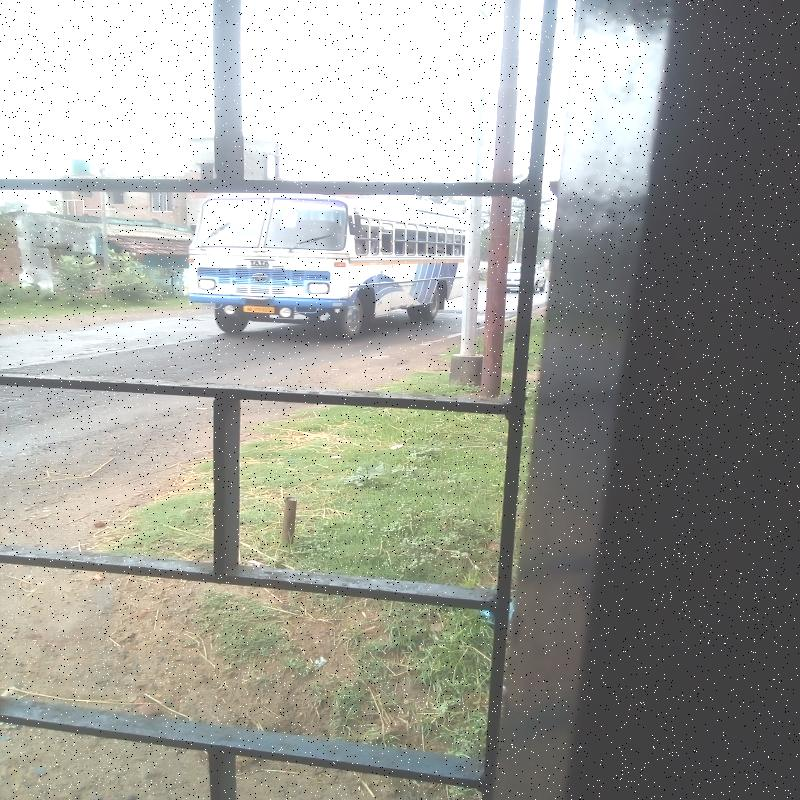bus: (192, 191, 469, 323)
